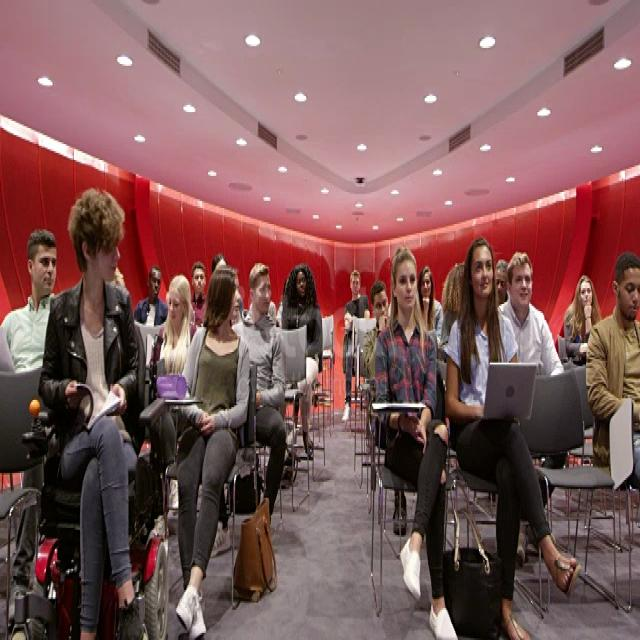Attentive: (471, 245, 493, 297), (396, 260, 416, 310), (512, 263, 532, 307), (148, 266, 163, 302), (374, 292, 389, 322), (192, 268, 206, 294), (580, 281, 592, 307), (421, 272, 432, 298), (297, 271, 307, 297), (351, 275, 360, 294)
Distracted: (94, 233, 121, 284), (31, 242, 57, 293), (620, 268, 640, 320), (167, 288, 184, 328), (256, 274, 271, 312), (230, 276, 242, 319), (495, 267, 508, 301)
